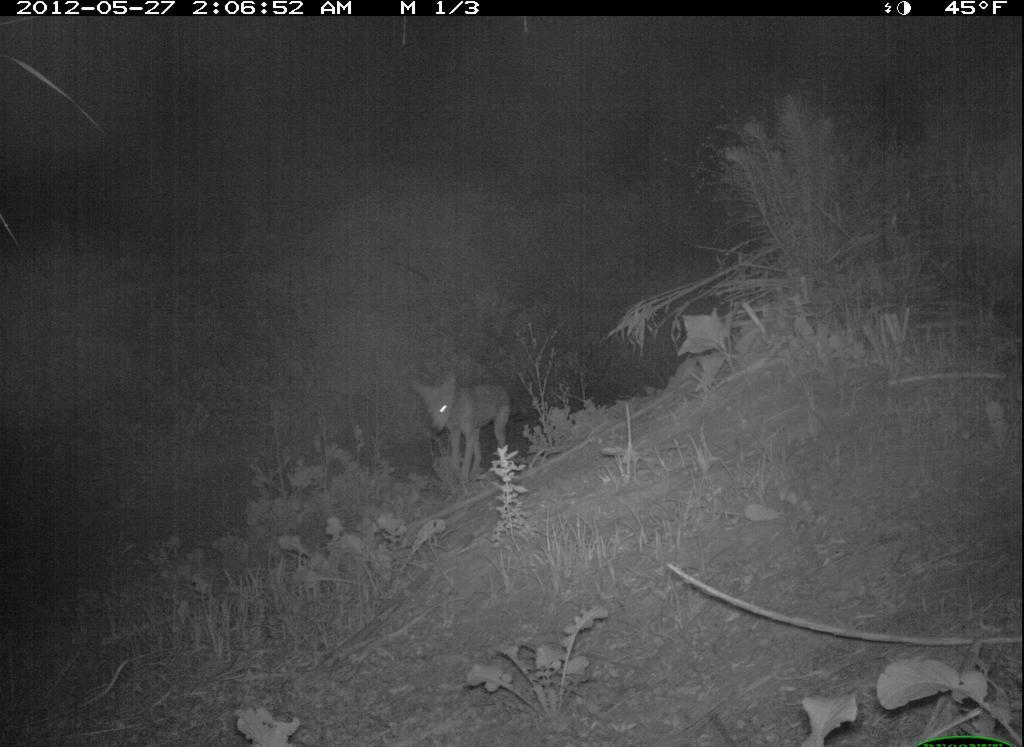coyote: (405, 367, 533, 488)
